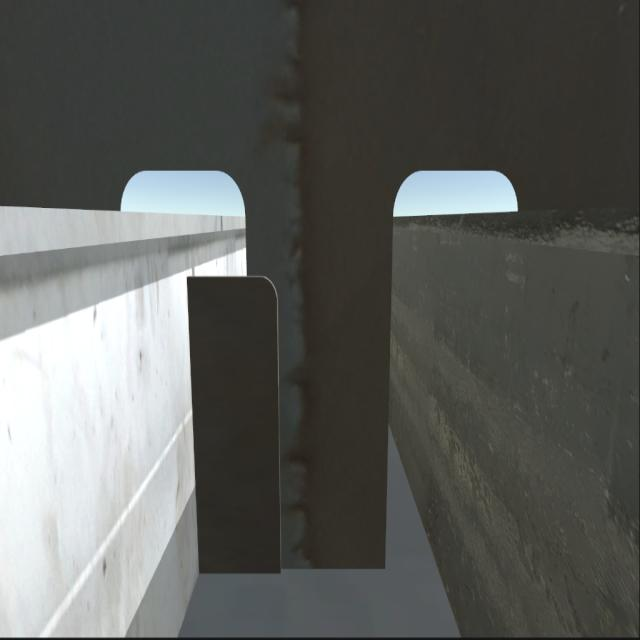fillet_yong_jeop_jang: (198, 556, 388, 580)
longi_yong_jeop_jang: (187, 270, 204, 578)
plate_CP05: (202, 276, 280, 572)
